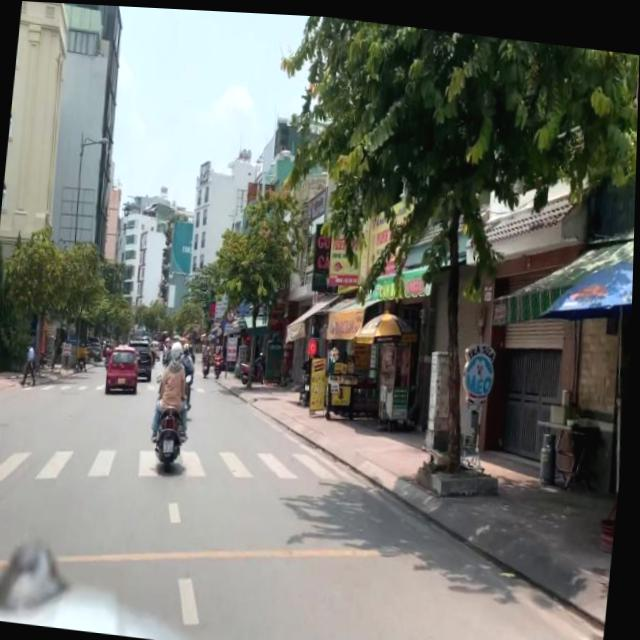Cam xe tai: (195, 316, 200, 325)
